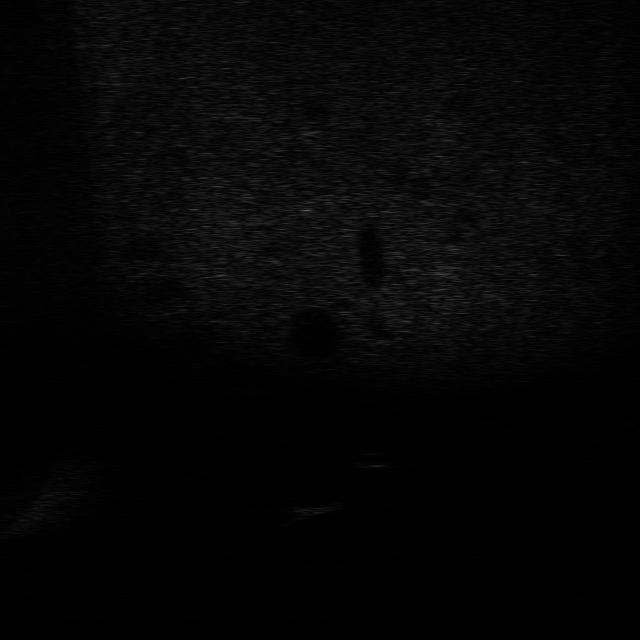ball: (346, 444, 395, 476)
square cage: (274, 493, 350, 526)
